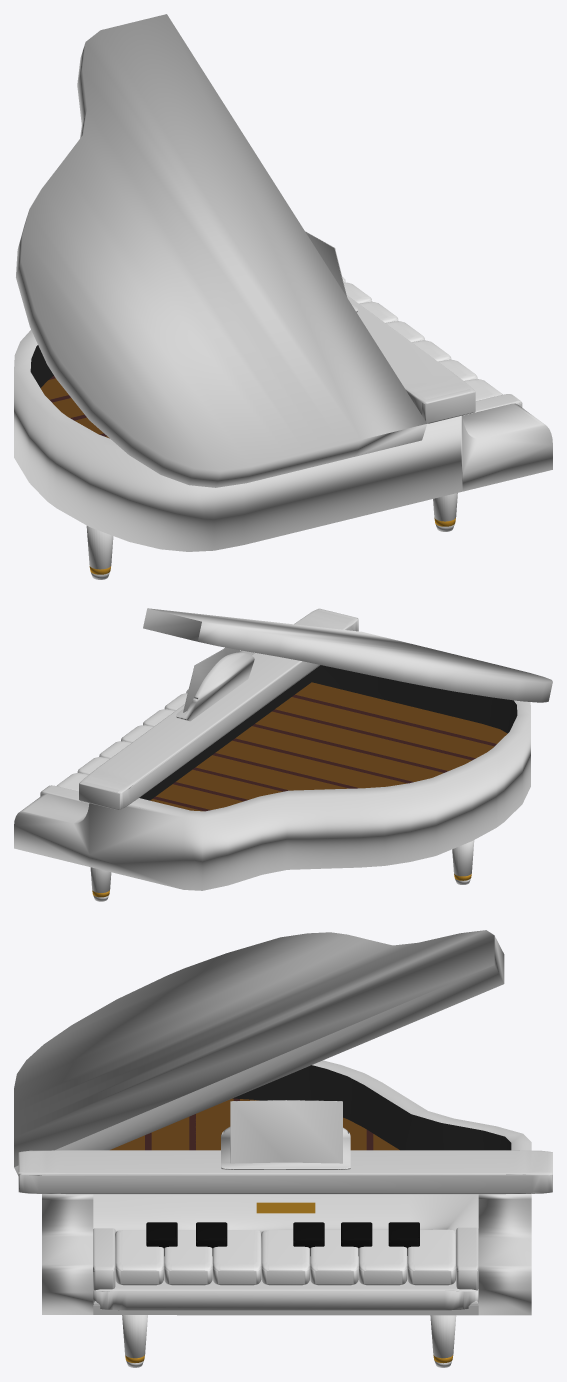
The model's file is piyano.fbx.
The picture shows the model from 3 angles, top to bottom: view 1: azimuth 30°, elevation 25°; view 2: azimuth 150°, elevation 25°; view 3: azimuth 270°, elevation 25°; orthographic projection. The views are drawn at different scales.
Visible parts, largest first — view 1: kapak, piyano, nota; view 2: piyano, kapak, nota; view 3: piyano, kapak, nota.
Boxes of the visible parts, x1,y1,x2,y2 form: kapak: [16, 14, 426, 487]; piyano: [14, 277, 552, 579]; nota: [305, 231, 347, 297]; piyano: [14, 608, 530, 901]; kapak: [143, 608, 552, 702]; nota: [183, 647, 239, 712]; piyano: [18, 1060, 552, 1367]; kapak: [14, 930, 504, 1175]; nota: [230, 1100, 342, 1163].
Bounding box in the file's own units: 715 × 631 × 852.
